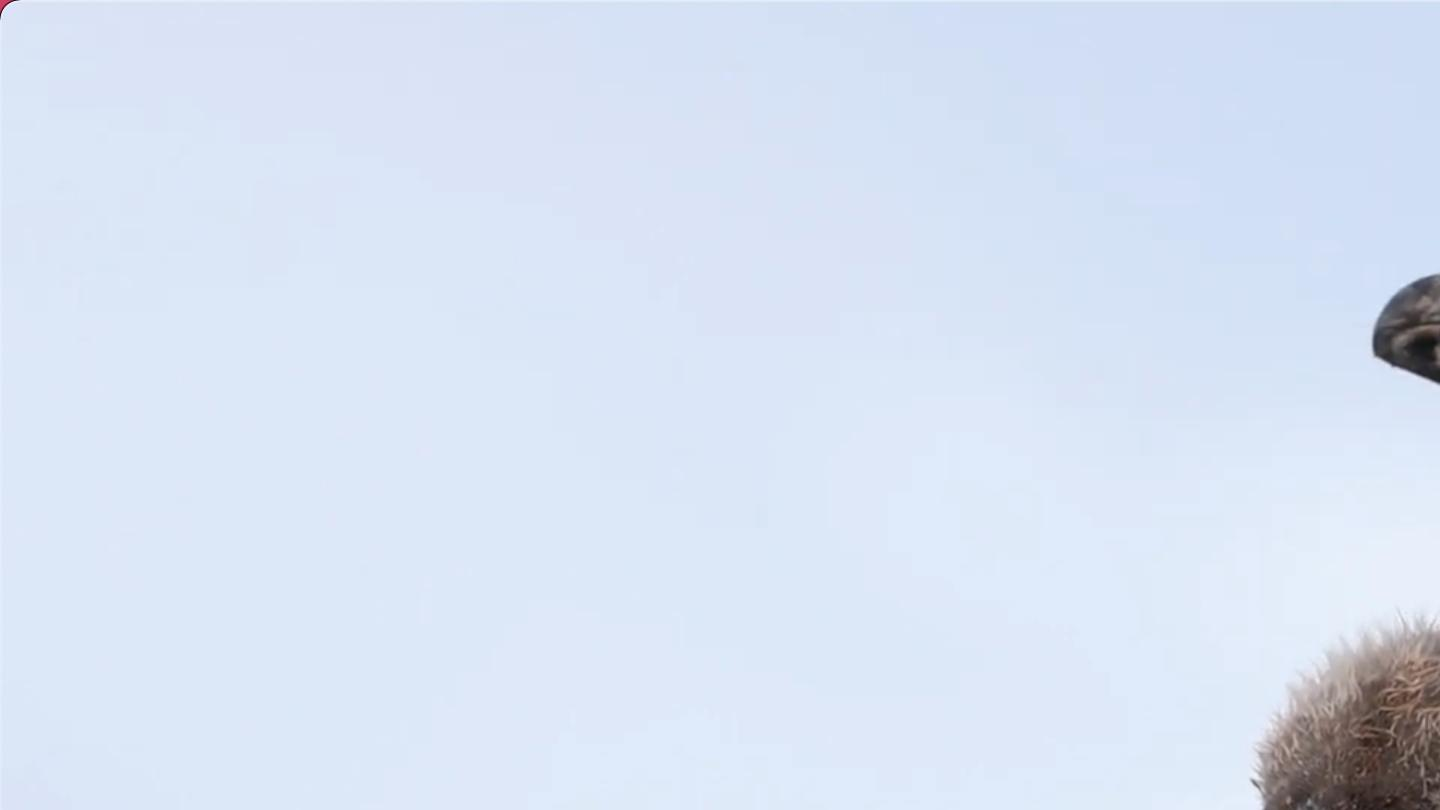Chinstrap Penguin: (1356, 5, 1440, 644)
